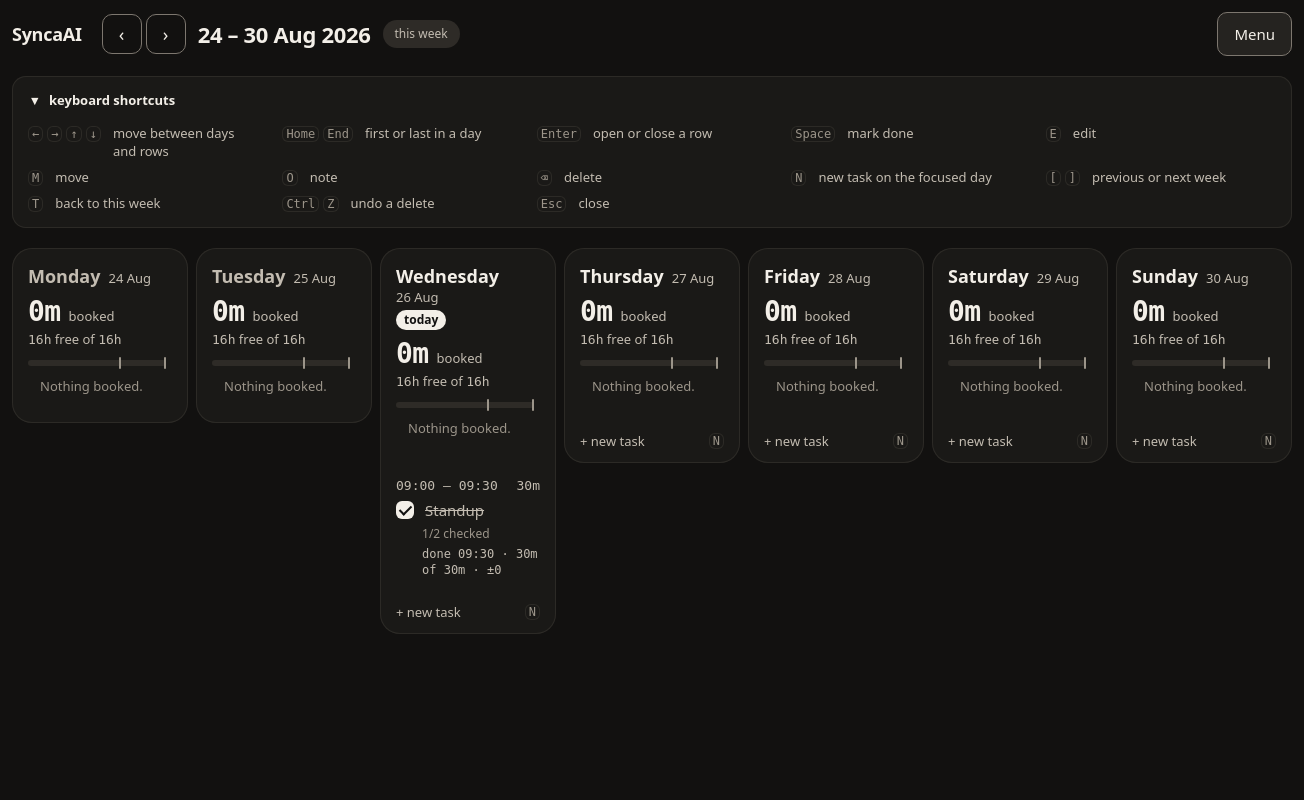
Test: deleting a task that cannot come back › lists every reason, not only the first
This screenshot has width=1304, height=800.
Click the cell that starts with "30m".
click(468, 528)  # box [384,465,552,590]
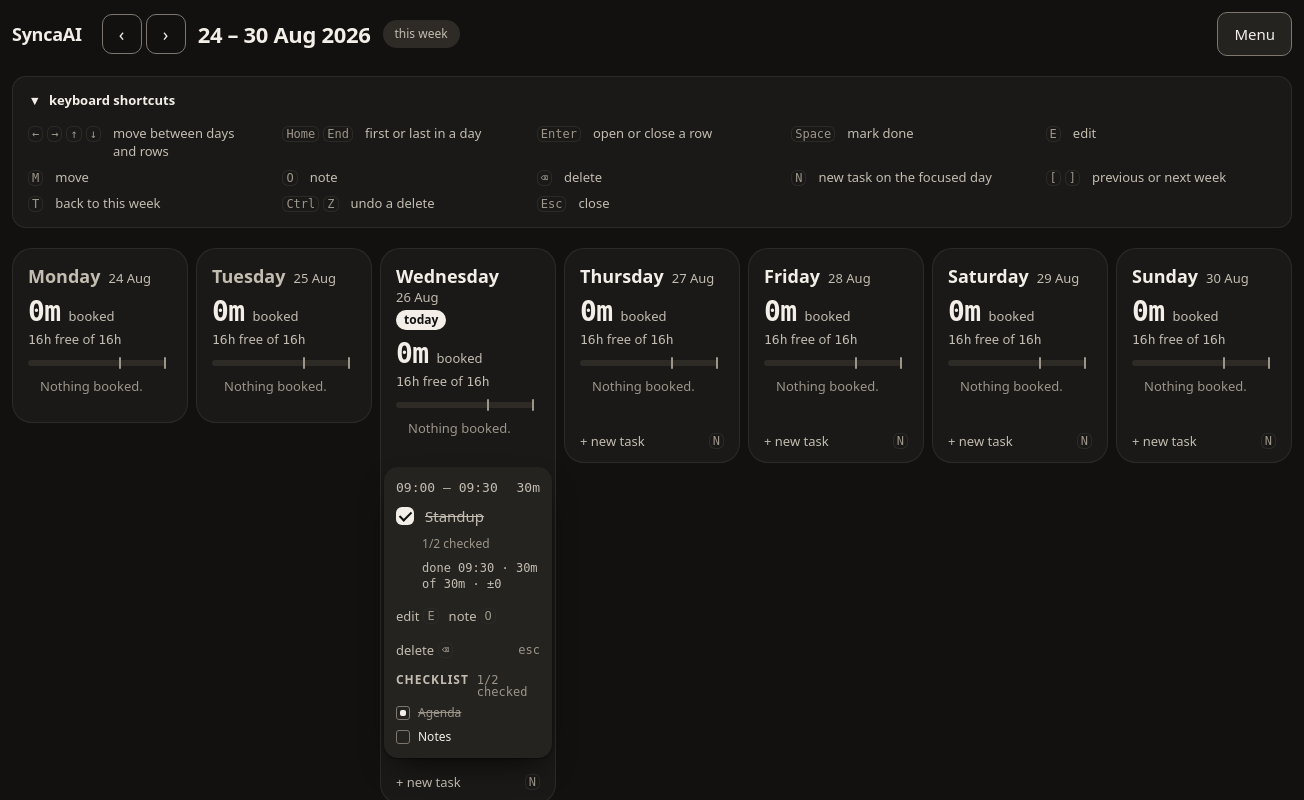
Expected: the cell that starts with "30m" is shown, [384,467,552,758]
Click the button "delete ⌫".
click(425, 650)  # box [392,634,457,666]
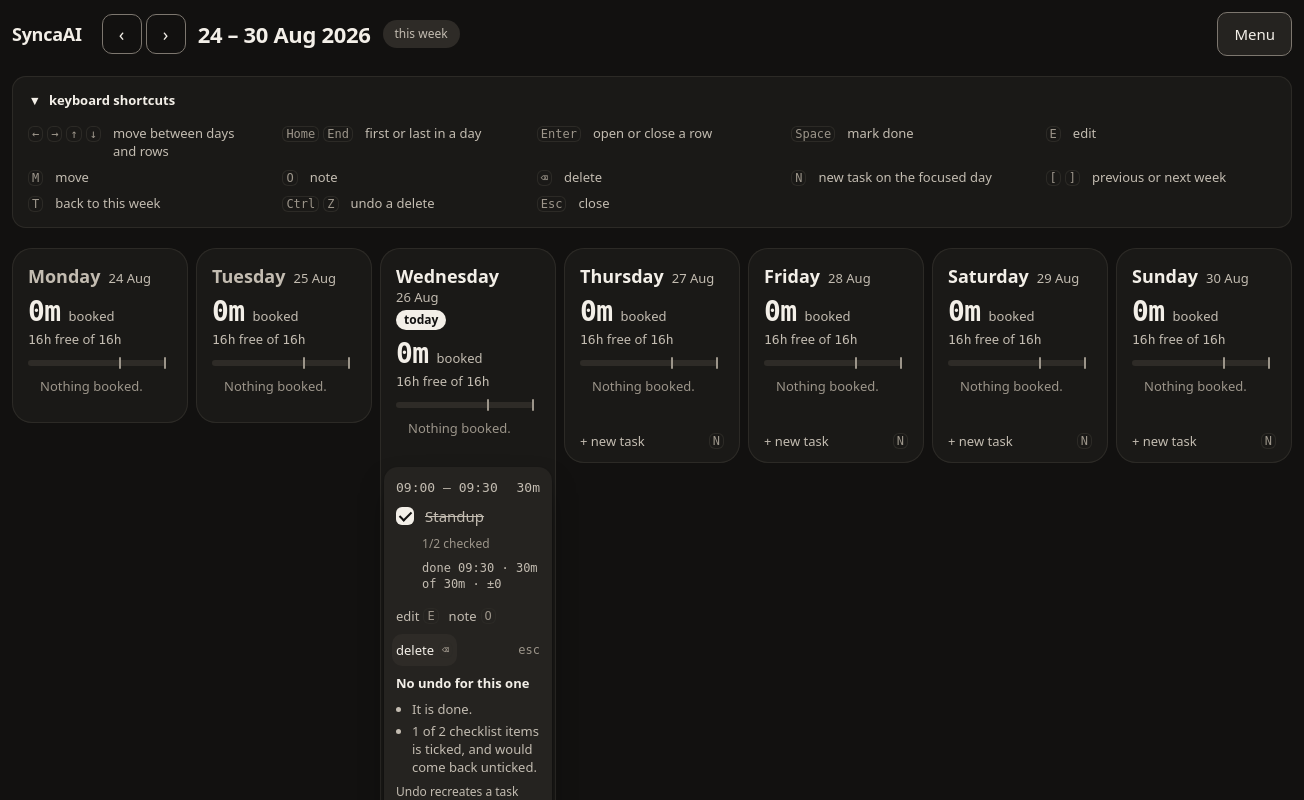
Expected: the list items read "It is done.", "1 of 2 checklist items is ticked, and would come back unticked.", in this order, [412,700,472,718]; [412,722,540,776]
